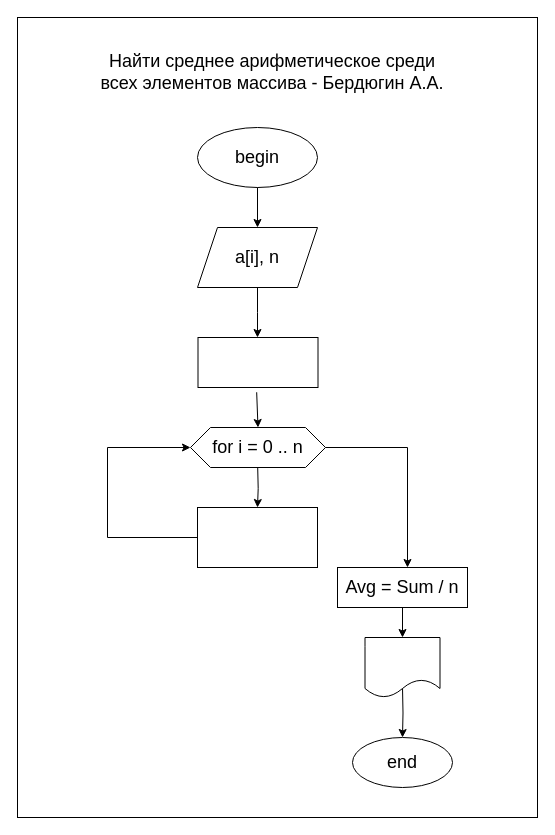
Image size: 555x835. Some labels were removed from this diagram. The shapes that lost their labels are listed below. From the top down, each one's centre as x and y in pixels, then its label:
the point at 257,362: Sum = 0 Avg = 0
the point at 257,537: Sum +=a[i] i += 1
the point at 402,667: Avg
